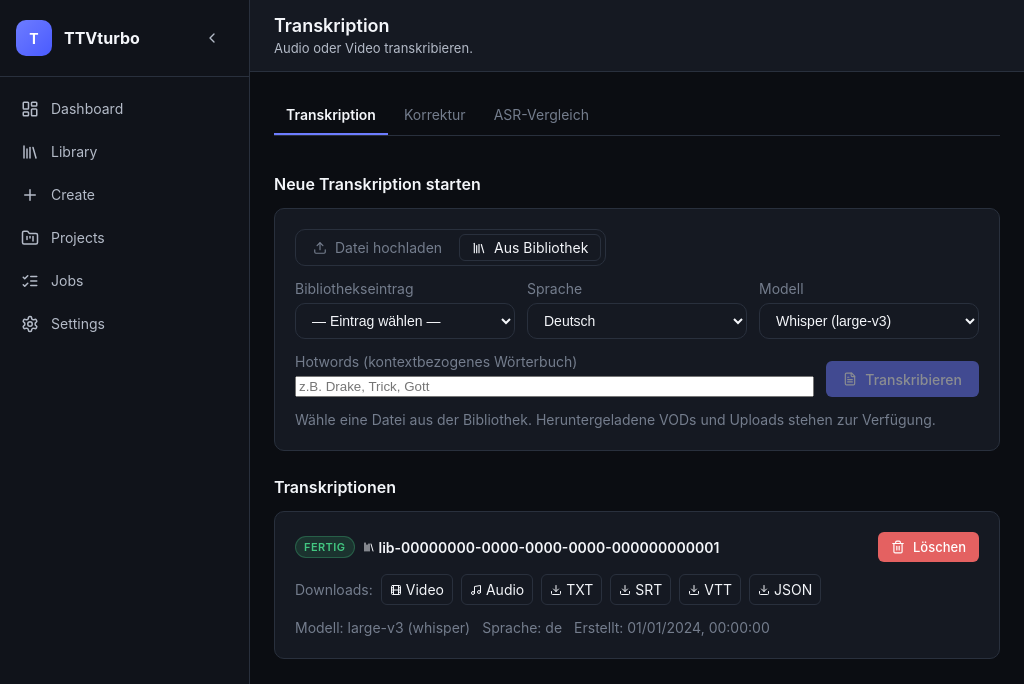
Scenario: Transcript editor frontend › edits a correction and updates the effective preview
Expected: the heading "Neue Transkription starten" is shown, [274,174,481,194]
Step 1. Click the tab "Korrektur" → coordinates (435, 116), box [392,96,478,135]
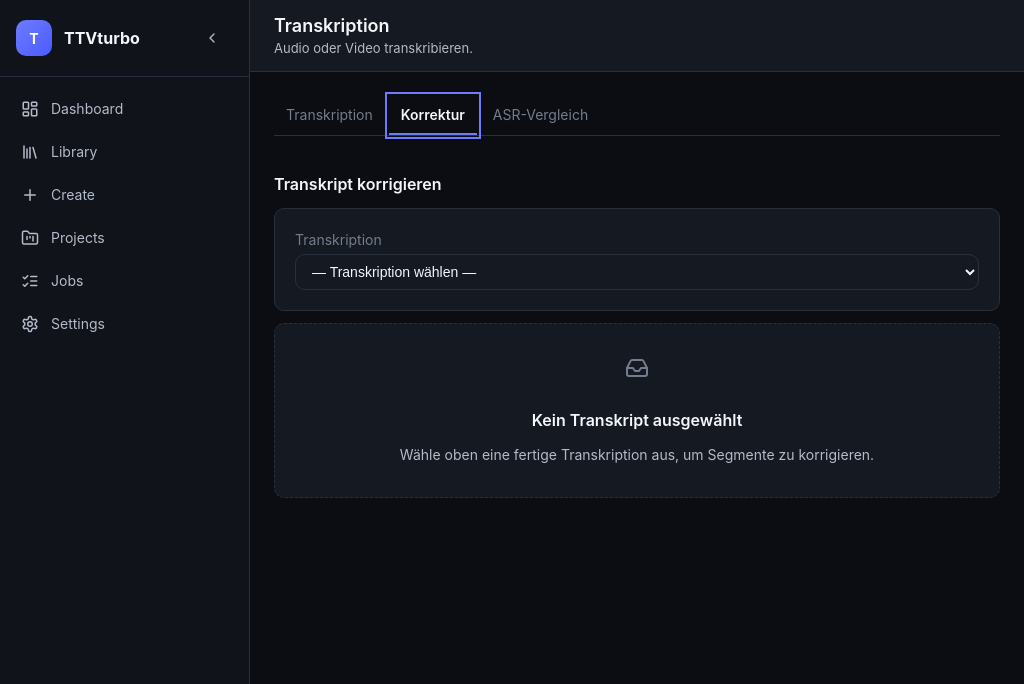
Expected: the heading "Transkript korrigieren" is shown, [274,174,442,194]
Step 2. Select "Test Upload · large-v3 · 01/01/2024, 00:00:00" in the dropdown labelled "Transkription" → coordinates (637, 272), box [295,254,979,290]
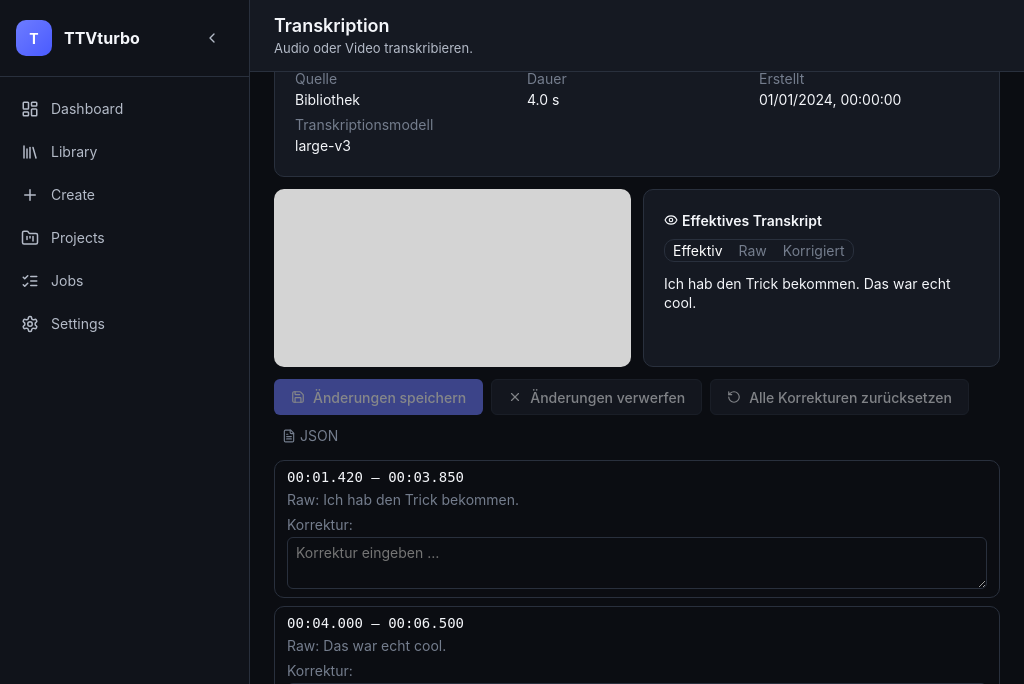
Expected: the text "Ich hab den Trick bekommen." is shown, [323,489,519,510]
Step 3. Type "Ich hab den Drake bekommen." into the 1st text box with placeholder "Korrektur eingeben …" → coordinates (637, 563), box [287,537,987,589]
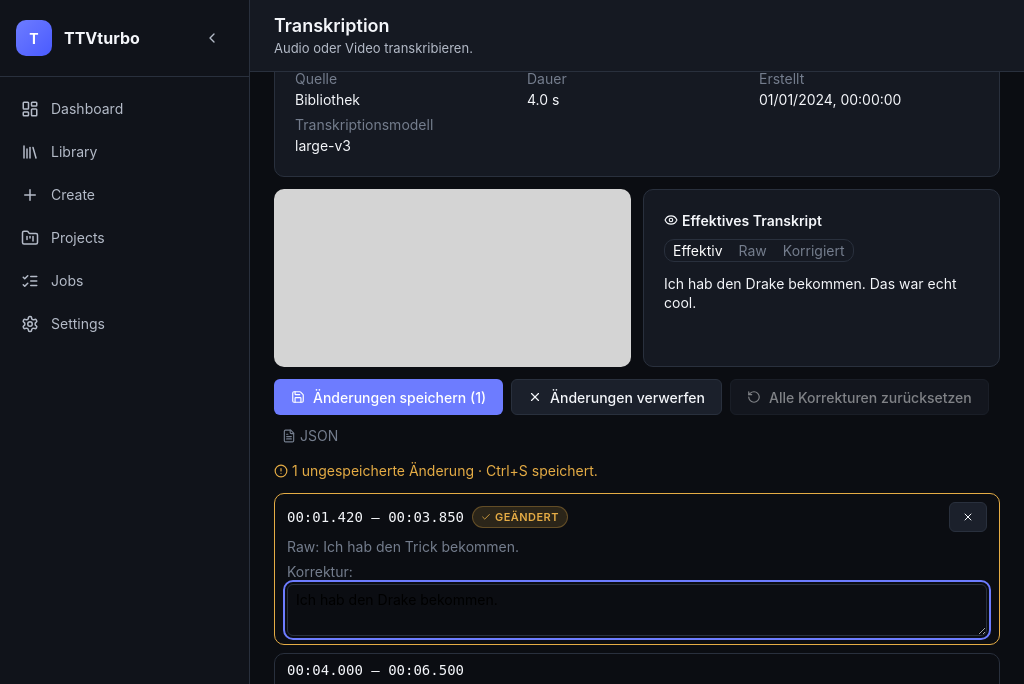
Expected: the text "Ich hab den Drake bekommen. Das war echt cool." is shown, [664,274,979,313]
Expected: the text "geändert" is shown, [472,506,568,528]
